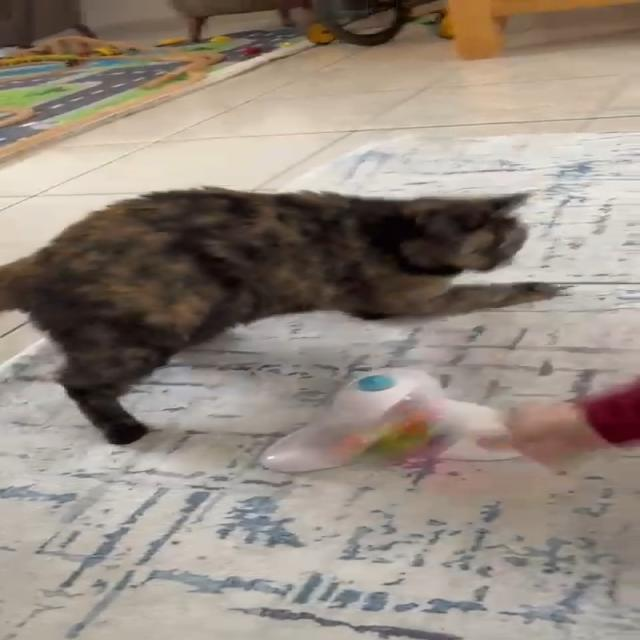authorized: (0, 184, 563, 445)
